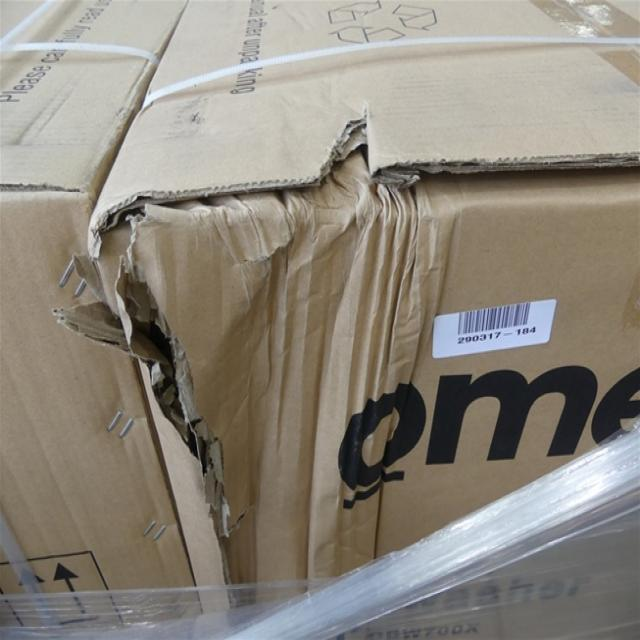hole: (133, 263, 237, 499)
